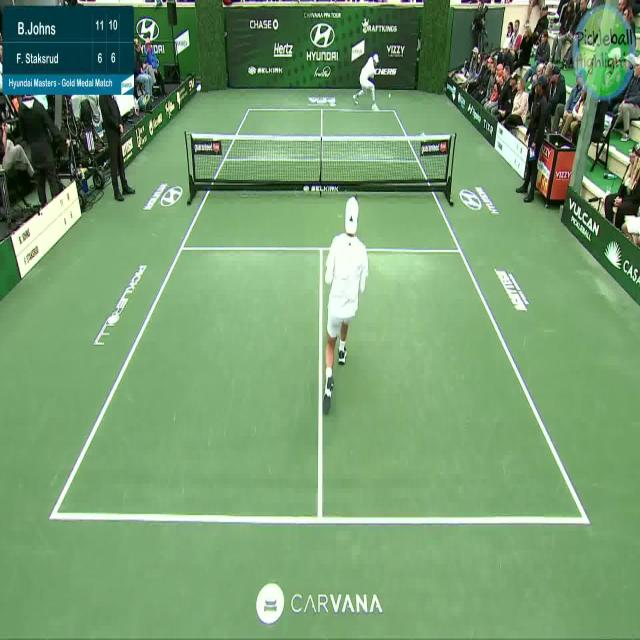ball: (388, 90, 391, 99)
